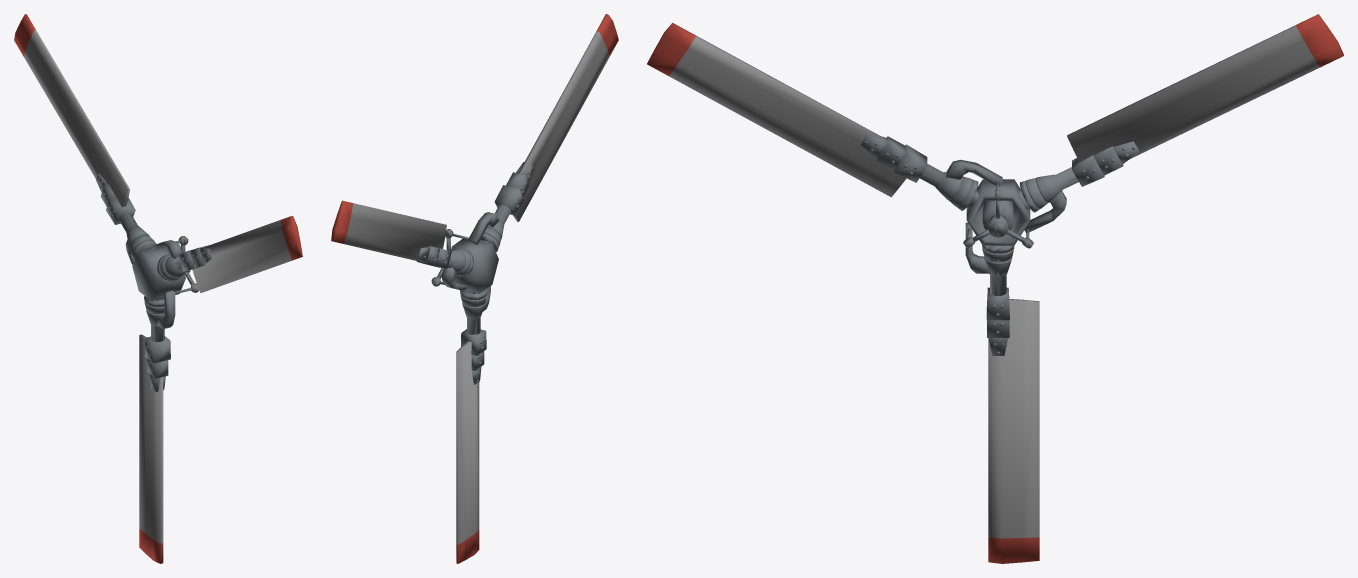
The model's file is Rotor.obj.
3 renders of one model, left to right at view 1: azimuth 30°, elevation 25°; view 2: azimuth 150°, elevation 25°; view 3: azimuth 270°, elevation 25°, orthographic. The views are drawn at different scales.
Visible parts, largest first — view 1: group_tail_blades, group_dark_grey, group_tail_tips; view 2: group_tail_blades, group_dark_grey, group_tail_tips; view 3: group_tail_blades, group_dark_grey, group_tail_tips.
Part boxes in pixels (box(x1,y1,x2,y2)): group_tail_blades: box(24, 30, 292, 543); group_dark_grey: box(96, 173, 211, 391); group_tail_tips: box(14, 14, 302, 563); group_tail_blades: box(344, 31, 609, 544); group_dark_grey: box(416, 162, 533, 384); group_tail_tips: box(331, 14, 618, 563); group_tail_blades: box(669, 25, 1319, 538); group_dark_grey: box(860, 135, 1139, 355); group_tail_tips: box(647, 14, 1343, 563).
Size of the model in its own units: 0.3748 by 3.74 by 4.31.
